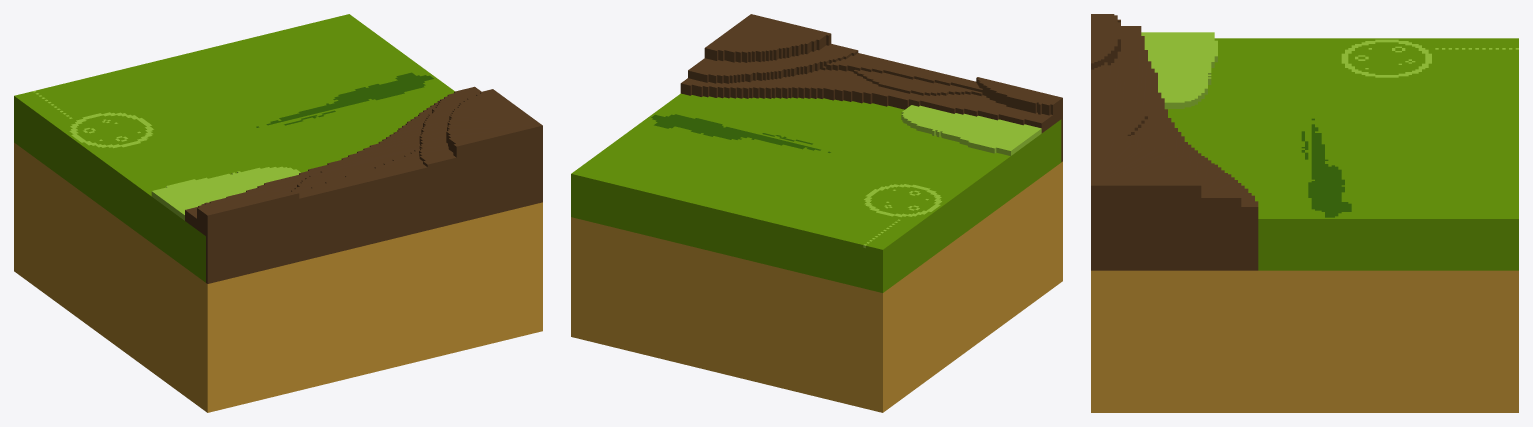
3 renders of one model, left to right at view 1: azimuth 30°, elevation 25°; view 2: azimuth 150°, elevation 25°; view 3: azimuth 270°, elevation 25°, orthographic. The views are drawn at different scales.
Visible parts, largest first — view 1: 11O; view 2: 11O; view 3: 11O.
Part boxes in pixels (left/top/right/bottom): 11O: left=14, top=14, right=542, bottom=412; 11O: left=571, top=14, right=1062, bottom=412; 11O: left=1091, top=14, right=1518, bottom=412.
Size of the model in its own units: 12.8 by 7.5 by 12.8.
1 material, 1 textured.
